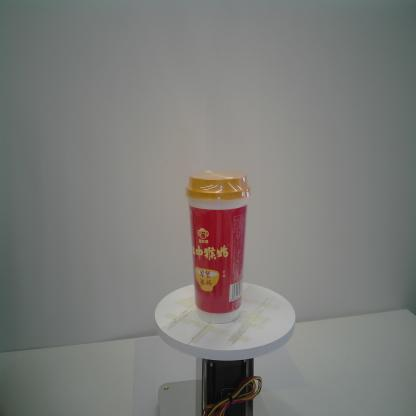Instant Drink: (184, 168, 252, 325)
